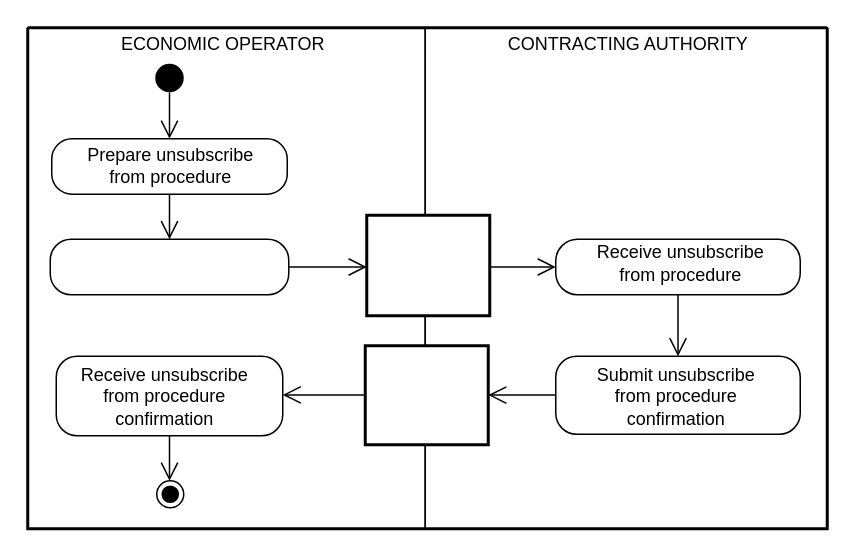
Image size: 854x555. Some labels were removed from this diagram. Here are the shapes that lost their labels. From the top down, the centre of each, then its label:
point 169,266: Submit unsubscribe from procedure
point 427,264: Unsubscribe From Procedure Request
point 426,395: Unsubscribe From Procedure Response
